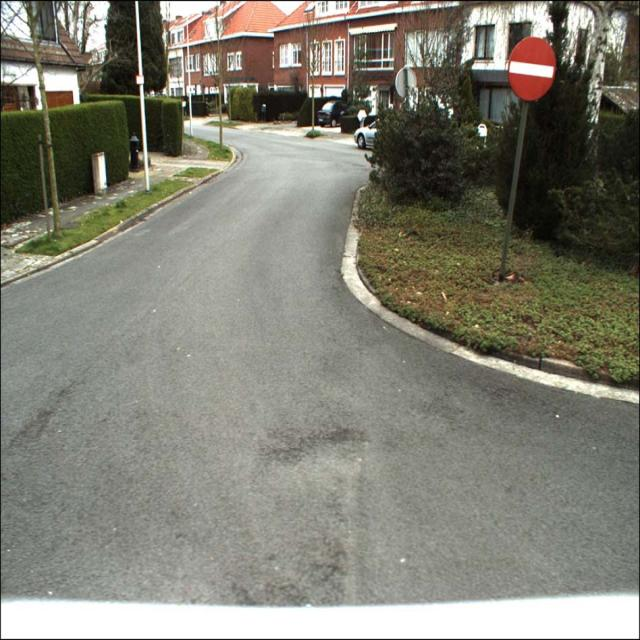girisyok: (508, 36, 555, 100)
